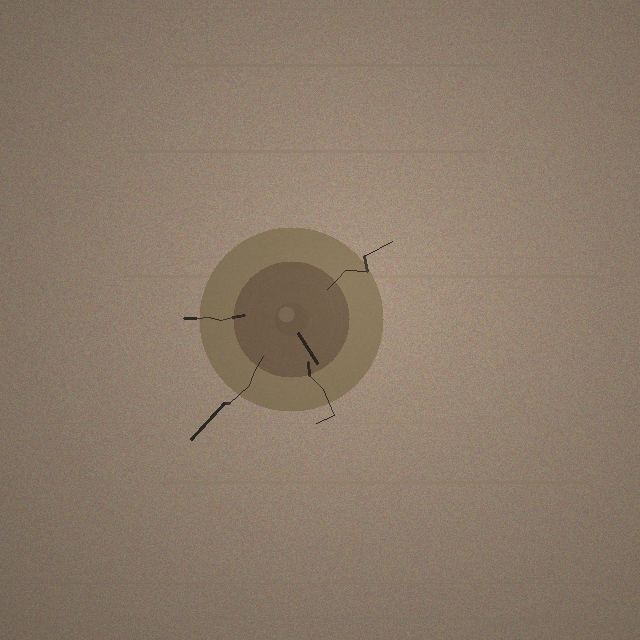crack: (199, 227, 383, 411)
